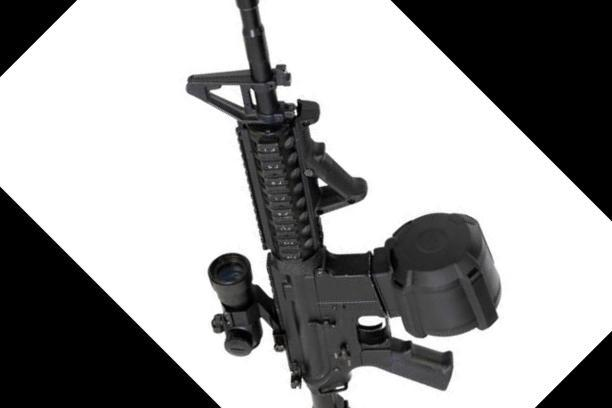larga: (185, 0, 502, 408)
